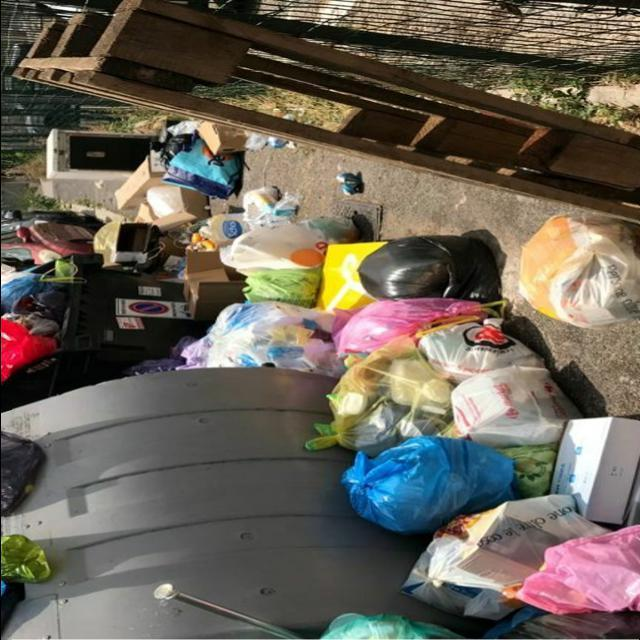Trashbag: (336, 231, 462, 308)
